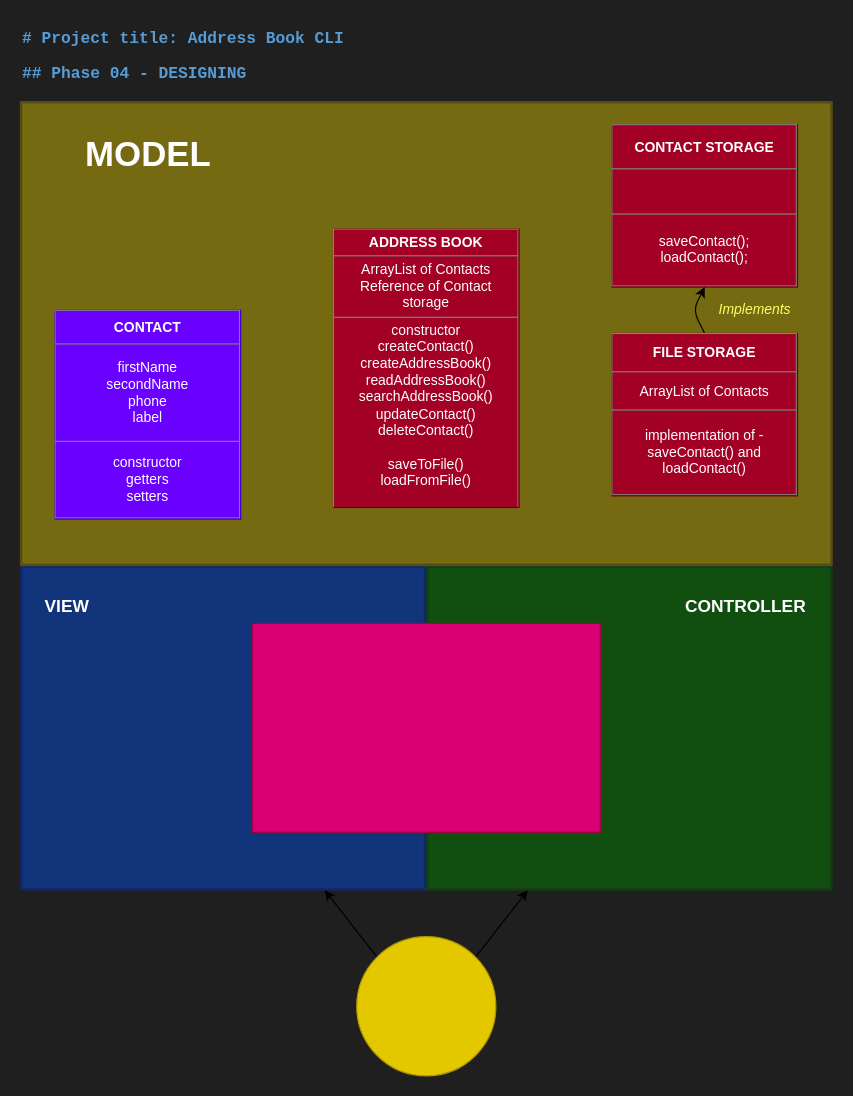
This 853x1096 diagram has some shape labels left out. Here are the shapes that lost their labels. From the top down, the centre of each, then its label:
At point (425, 727): "ADDRESS BOOK CLI firstName secondName phone label constructor getters setters".
At point (426, 1006): "user".
